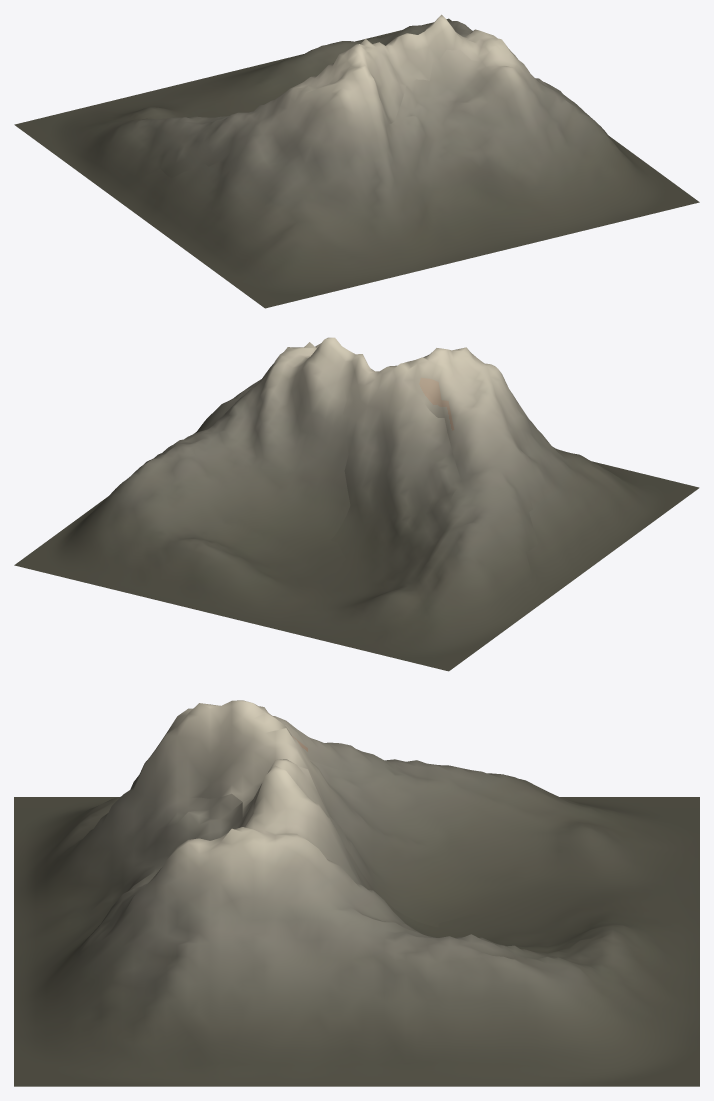
The model's file is Mountain_1B.fbx.
3 views of the same model, one above another, from view 1: azimuth 30°, elevation 25°; view 2: azimuth 150°, elevation 25°; view 3: azimuth 270°, elevation 25° (orthographic). The views are drawn at different scales.
Visible parts, largest first — view 1: Mountain_1B; view 2: Mountain_1B; view 3: Mountain_1B.
Part boxes in pixels (<box>): Mountain_1B: <box>14,14,699,308</box>; Mountain_1B: <box>14,337,699,671</box>; Mountain_1B: <box>14,700,699,1086</box>.
Size of the model in its own units: 20000 by 6915 by 20000.
